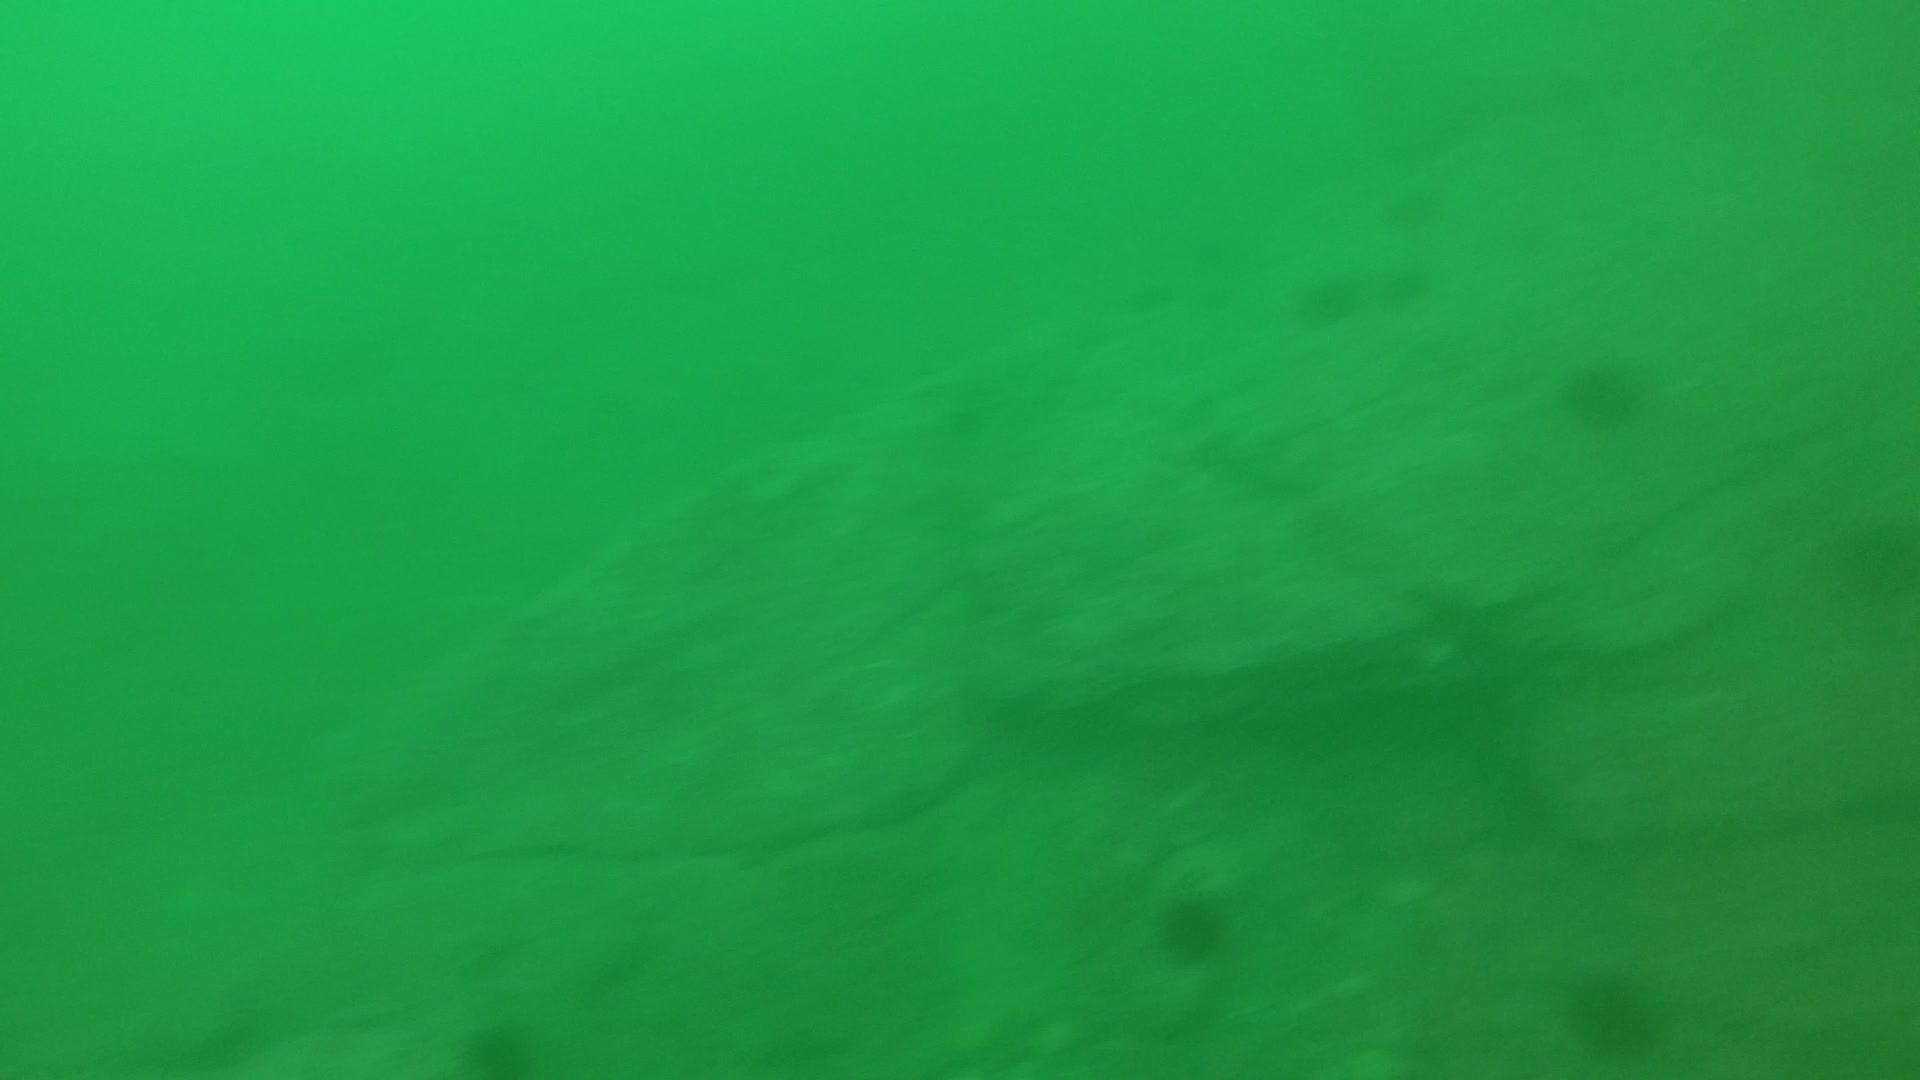echinus: (1557, 960, 1664, 1060), (1818, 505, 1917, 609), (1555, 345, 1658, 433), (1149, 884, 1236, 967), (456, 1014, 545, 1077), (1292, 262, 1365, 330), (1379, 255, 1439, 313)
